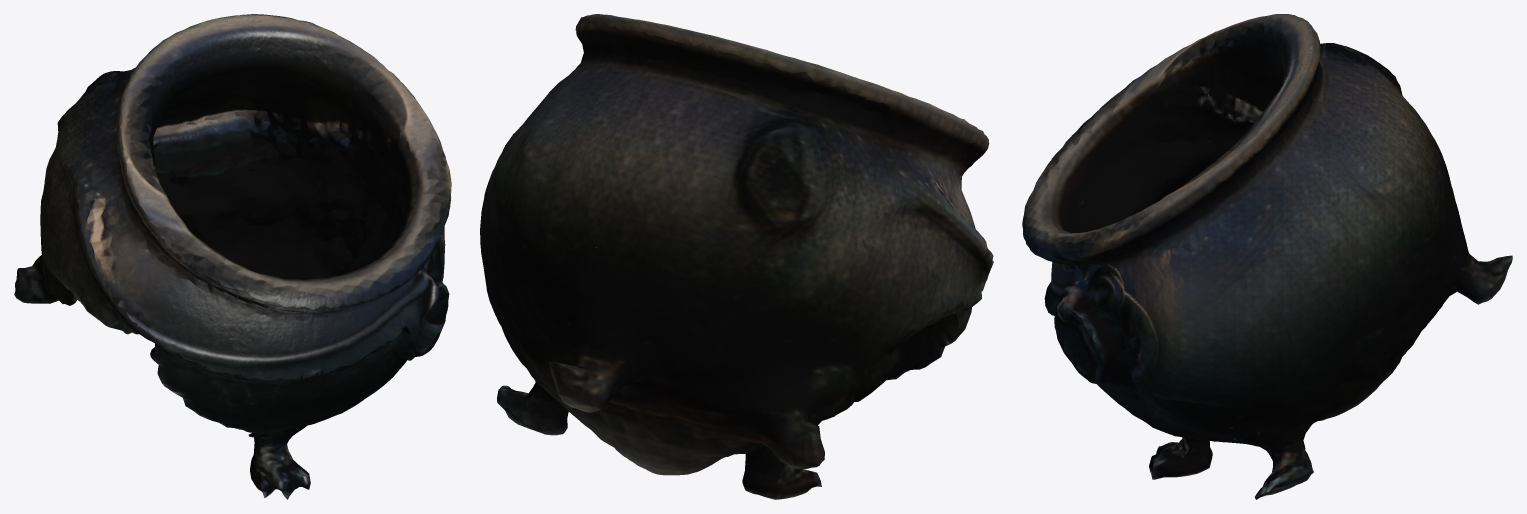
Rendered from cauldron.glb.
The picture shows the model from 3 angles, left to right: view 1: azimuth 30°, elevation 25°; view 2: azimuth 150°, elevation 25°; view 3: azimuth 270°, elevation 25°; orthographic projection. The views are drawn at different scales.
Visible parts, largest first — view 1: geometry_0; view 2: geometry_0; view 3: geometry_0.
Boxes of the visible parts, <box> form: geometry_0: <box>14,14,451,499</box>; geometry_0: <box>480,14,993,499</box>; geometry_0: <box>1022,14,1512,499</box>.
Bounding box in the file's own units: 0.8284 × 0.9347 × 0.9574.
1 material, 1 textured.
